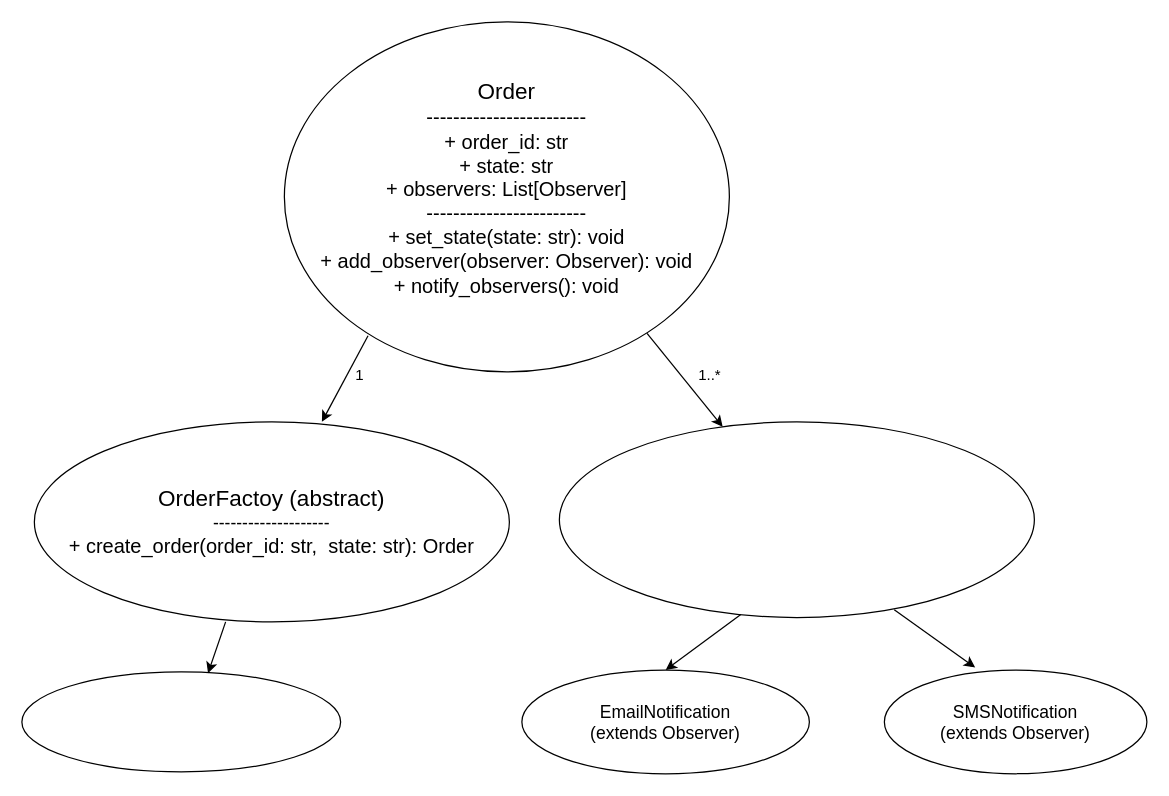
Image size: 1169x796. Some labels were removed from this diagram. The shapes that lost their labels are listed below. From the top down, each one's box as (x1, y1, x2, y2) in pixels, then its label:
(558, 421, 1034, 618): Observer (abstract) -------------------- + update(order: Order): void
(21, 671, 341, 772): ConcreteOrderFactory (extends OrderFactory)
